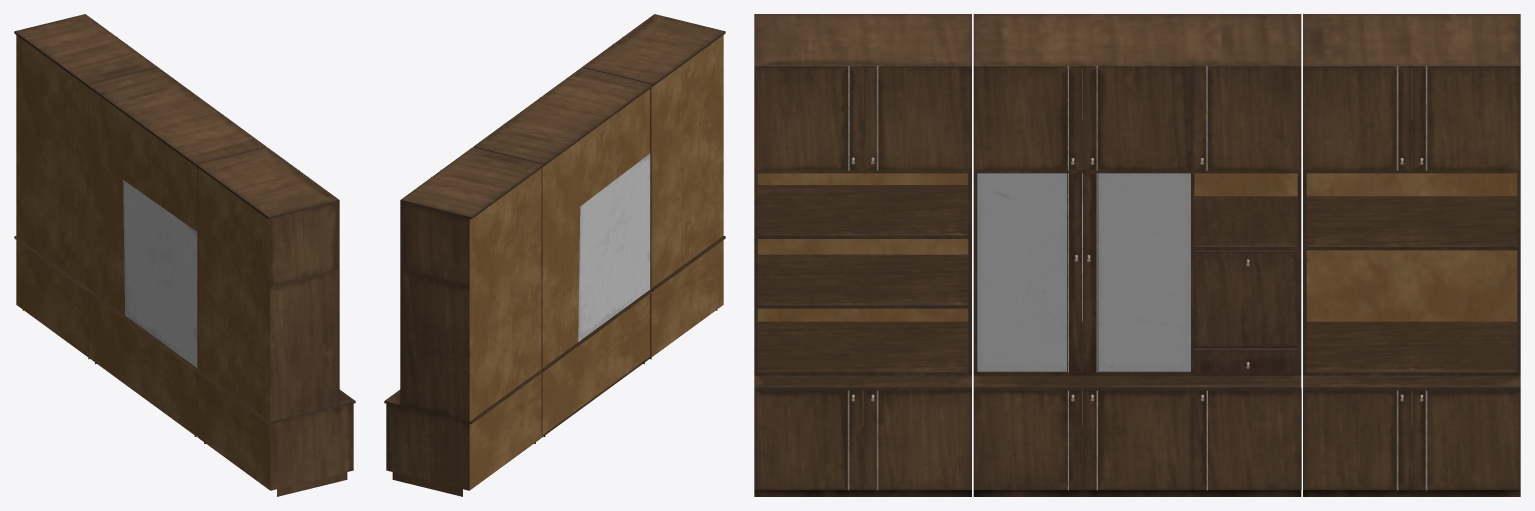
Rendered from gdr.glb.
3 renders of one model, left to right at view 1: azimuth 30°, elevation 25°; view 2: azimuth 150°, elevation 25°; view 3: azimuth 270°, elevation 25°, orthographic. The views are drawn at different scales.
Parts seen in each view (by area): view 1: top_back_low, r_top_back_low, m_top_back_low, m_mirror_low, mid_walls2_low, m_top_low, m_bottom_back_low, bottom_walls_low, top_low, r_top_low, bottom_back_low, r_bottom_back_low (+4 smaller); view 2: r_top_back_low, top_back_low, m_top_back_low, m_mirror_low, r_mid_walls2_low, m_top_low, m_bottom_back_low, r_bottom_walls2_low, r_top_low, top_low, r_bottom_back_low, bottom_back_low (+4 smaller); view 3: r_top_back_low, m_mid_doors3_low, m_mid_doors4_low, m_top_low, r_shelf4_low, r_shelf2_low, shelf23_low, shelf24_low, top_doors1_low, r_top_doors2_low, r_top_doors_low, top_doors2_low (+32 smaller).
Boxes of the visible parts, x1,y1,x2,y2 form: top_back_low: (198, 168, 270, 421); r_top_back_low: (16, 35, 88, 288); m_top_back_low: (89, 88, 197, 314); m_mirror_low: (123, 180, 197, 367); mid_walls2_low: (270, 271, 339, 421); m_top_low: (87, 68, 264, 165); m_bottom_back_low: (89, 293, 197, 436); bottom_walls_low: (270, 404, 351, 490); top_low: (196, 147, 337, 219); r_top_low: (14, 14, 155, 86); bottom_back_low: (198, 373, 270, 490); r_bottom_back_low: (16, 240, 88, 357); r_top_back_low: (469, 168, 541, 421); top_back_low: (651, 35, 723, 288); m_top_back_low: (542, 89, 650, 367); m_mirror_low: (578, 153, 650, 341); r_mid_walls2_low: (400, 271, 469, 421); m_top_low: (475, 68, 652, 165); m_bottom_back_low: (542, 294, 650, 437); r_bottom_walls2_low: (388, 404, 469, 490); r_top_low: (402, 147, 543, 219); top_low: (584, 14, 725, 86); r_bottom_back_low: (469, 373, 541, 490); bottom_back_low: (651, 240, 723, 357); r_top_back_low: (1306, 68, 1517, 321); m_mid_doors3_low: (1098, 173, 1190, 371); m_mid_doors4_low: (977, 173, 1066, 371); m_top_low: (973, 14, 1301, 67); r_shelf4_low: (1306, 196, 1517, 250); r_shelf2_low: (1306, 321, 1517, 375); shelf23_low: (757, 321, 968, 375); shelf24_low: (757, 254, 968, 308); top_doors1_low: (863, 64, 971, 170); r_top_doors2_low: (1303, 64, 1411, 170); r_top_doors_low: (1412, 64, 1520, 170); top_doors2_low: (754, 64, 862, 170).
Size of the model in its own units: 0.6203 by 1.85 by 3.03.
Materials: 1 (1 with a texture image).
